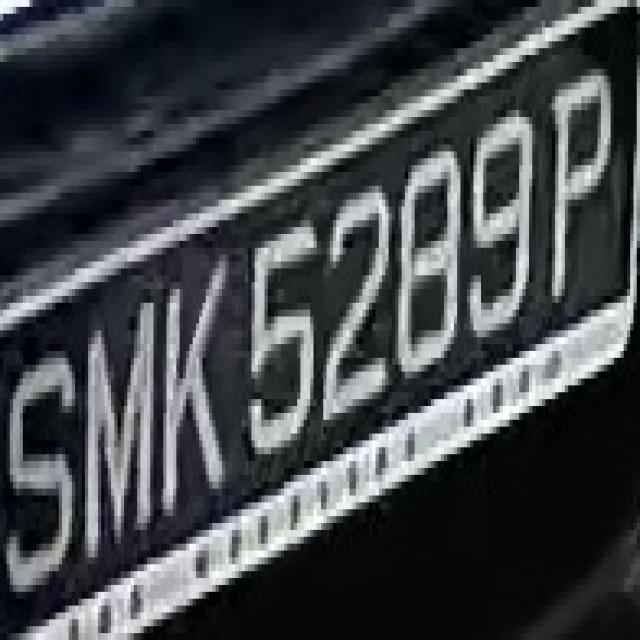2: (320, 172, 395, 434)
5: (242, 199, 320, 475)
8: (392, 145, 473, 406)
9: (460, 103, 542, 372)
K: (157, 255, 238, 523)
M: (69, 289, 150, 551)
P: (546, 62, 620, 316)
S: (7, 330, 82, 599)
